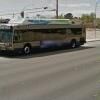Bus: (3, 13, 91, 55)
